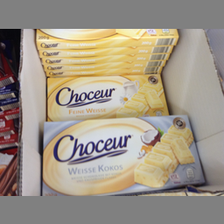chocolate: (41, 114, 209, 196), (45, 73, 172, 122)
